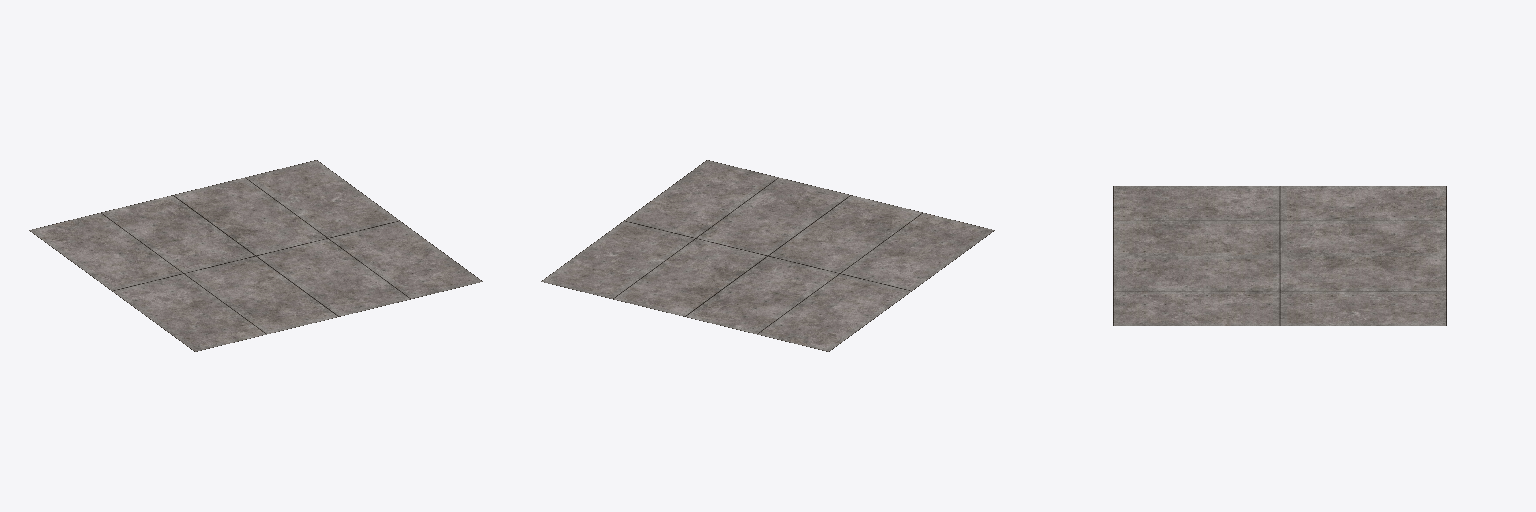
3 views of the same model, side by side, from view 1: azimuth 30°, elevation 25°; view 2: azimuth 150°, elevation 25°; view 3: azimuth 270°, elevation 25° (orthographic).
Visible parts, largest first — view 1: Plane; view 2: Plane; view 3: Plane.
Boxes of the visible parts, x1=… form: Plane: x1=29, y1=160, x2=482, y2=351; Plane: x1=541, y1=160, x2=994, y2=351; Plane: x1=1113, y1=186, x2=1446, y2=325.
Size of the model in its own units: 2 by 0 by 2.
1 materials, 1 textured.